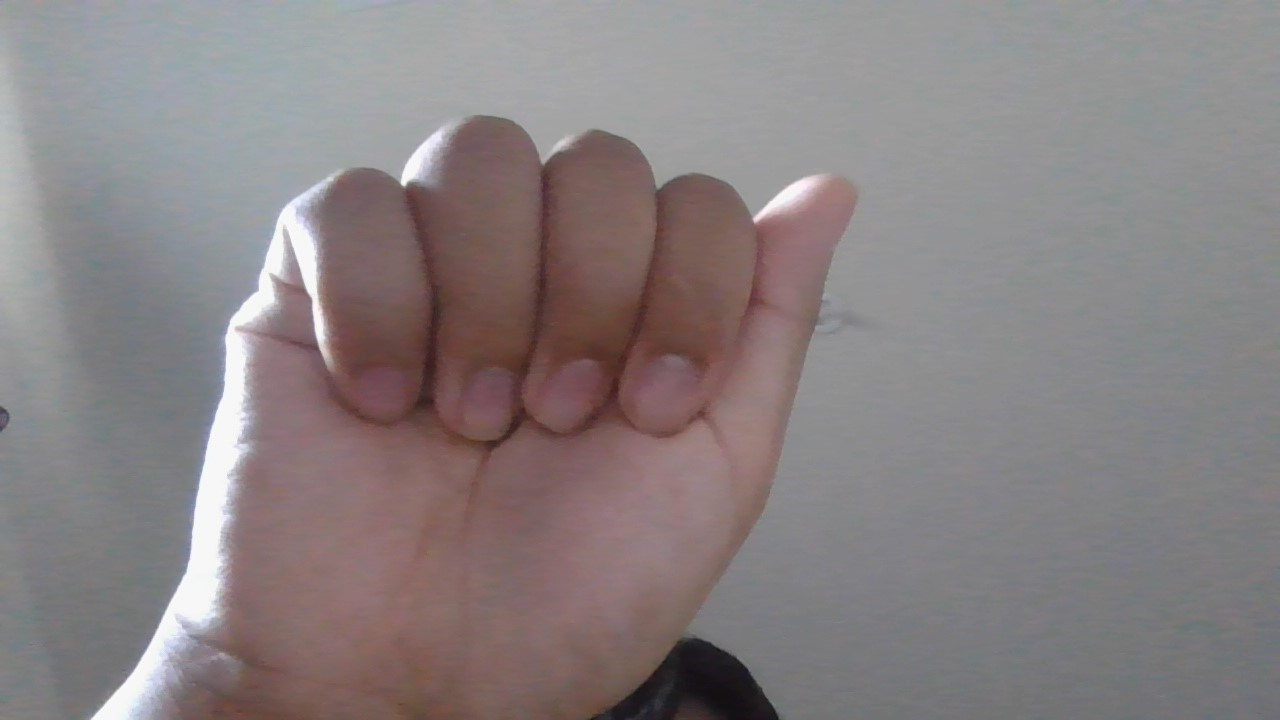a: (154, 103, 905, 720)
